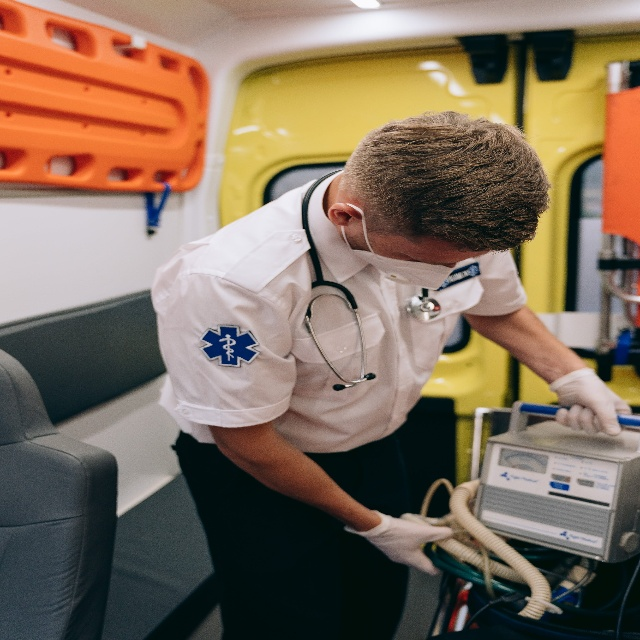Guantes: (348, 511, 456, 579), (551, 368, 629, 432)
Mascara: (354, 244, 451, 296)
